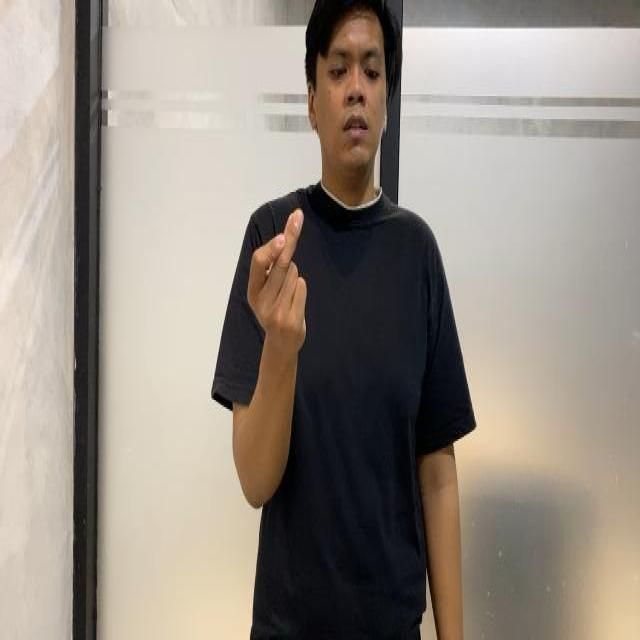R: (215, 194, 352, 364)
